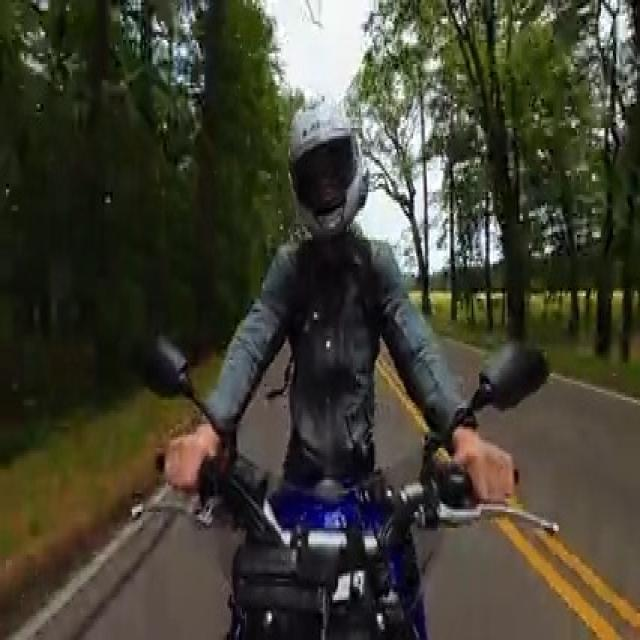Helmet_Wearer: (284, 84, 372, 230)
Person: (180, 86, 508, 516)
